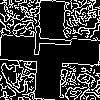T: (25, 25, 72, 58)
